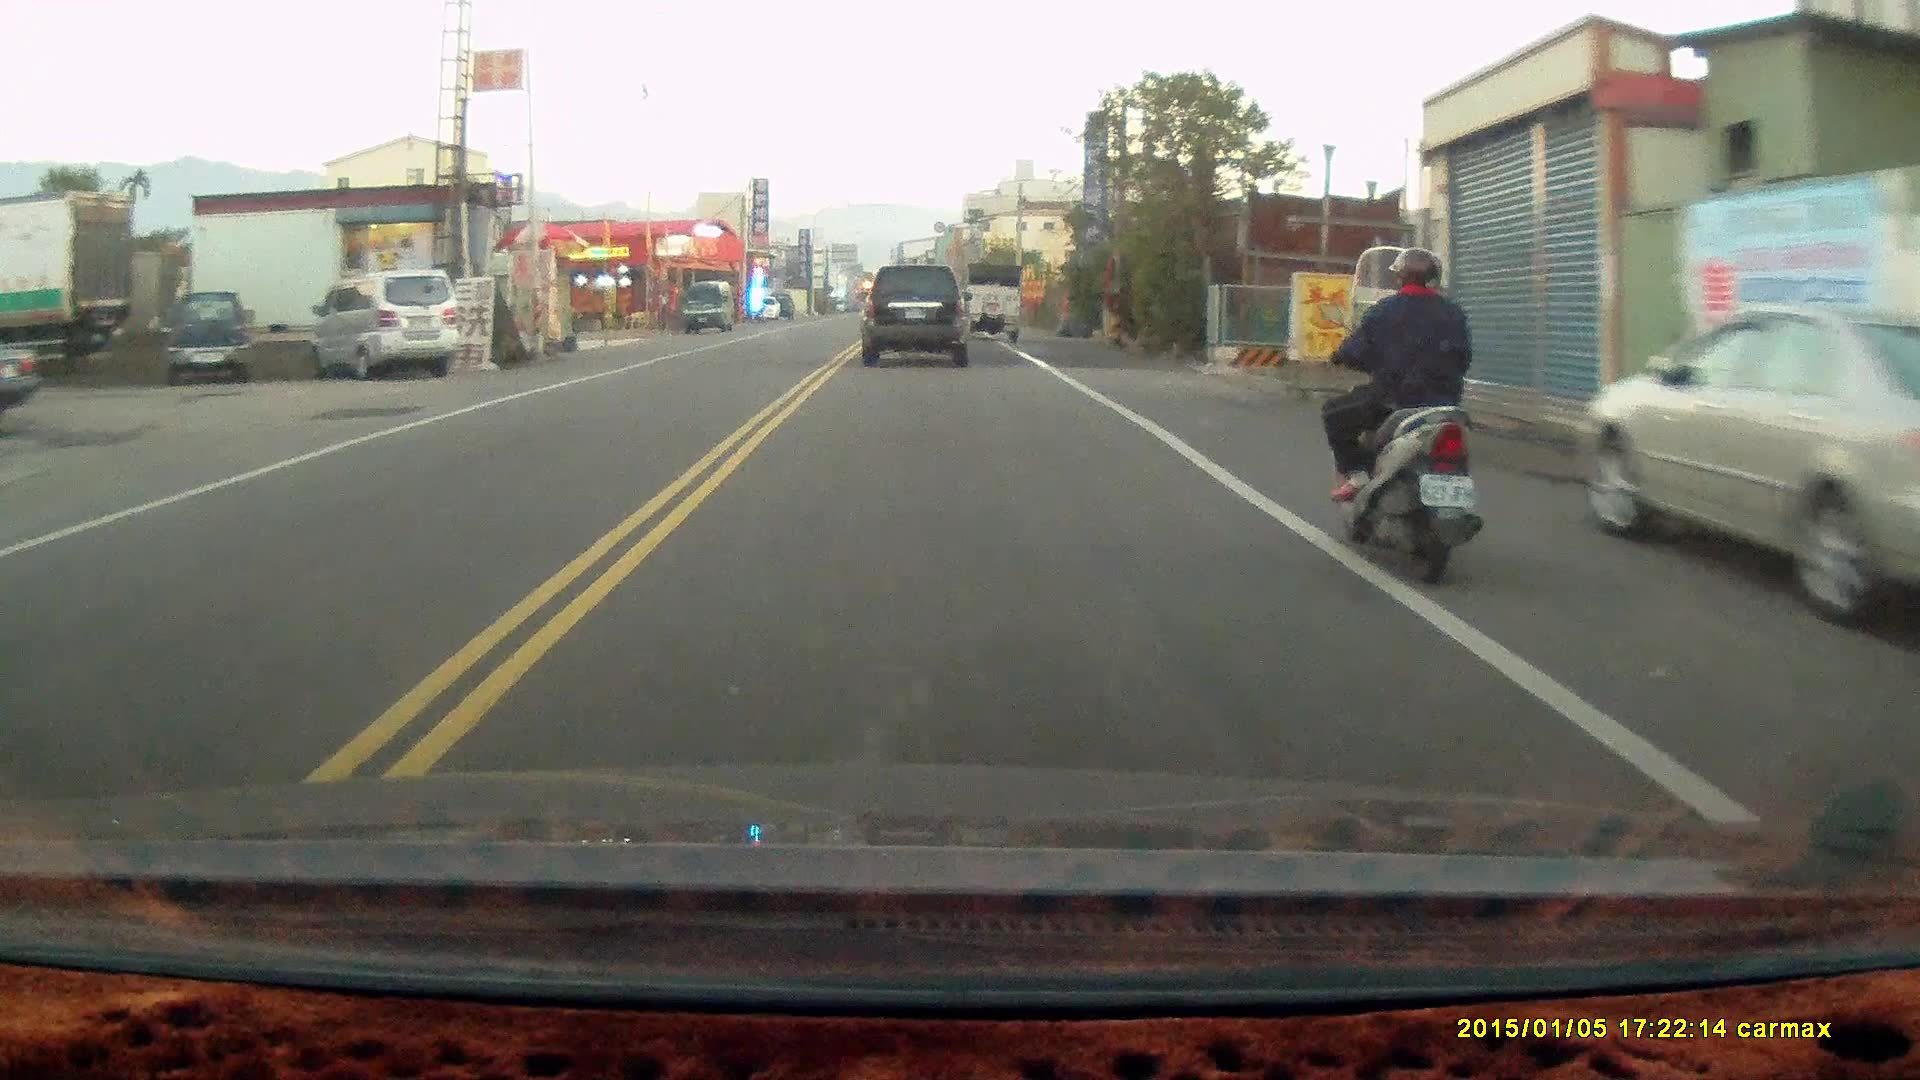rider: (1322, 246, 1486, 588)
vehicle: (1570, 300, 1920, 627), (312, 268, 461, 382), (859, 264, 977, 372), (168, 292, 252, 388), (1, 314, 44, 430), (963, 264, 1024, 341), (682, 283, 737, 338)
